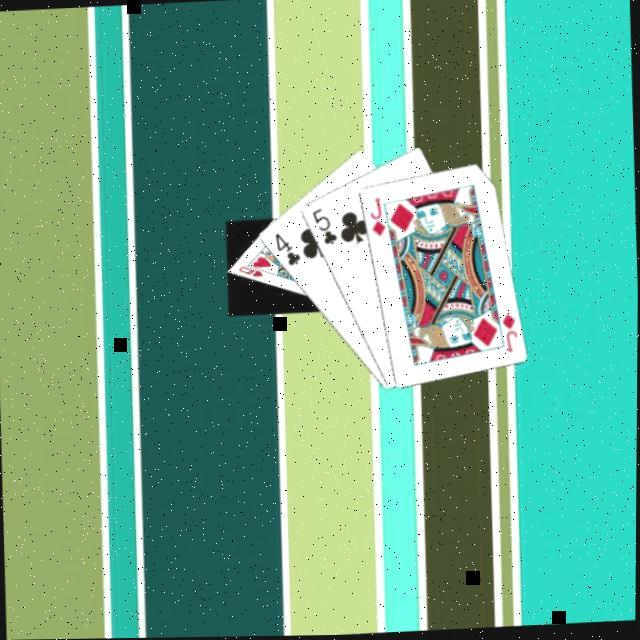4C: (270, 228, 302, 268)
5C: (307, 205, 338, 248)
JD: (364, 194, 388, 239), (497, 310, 520, 355)
